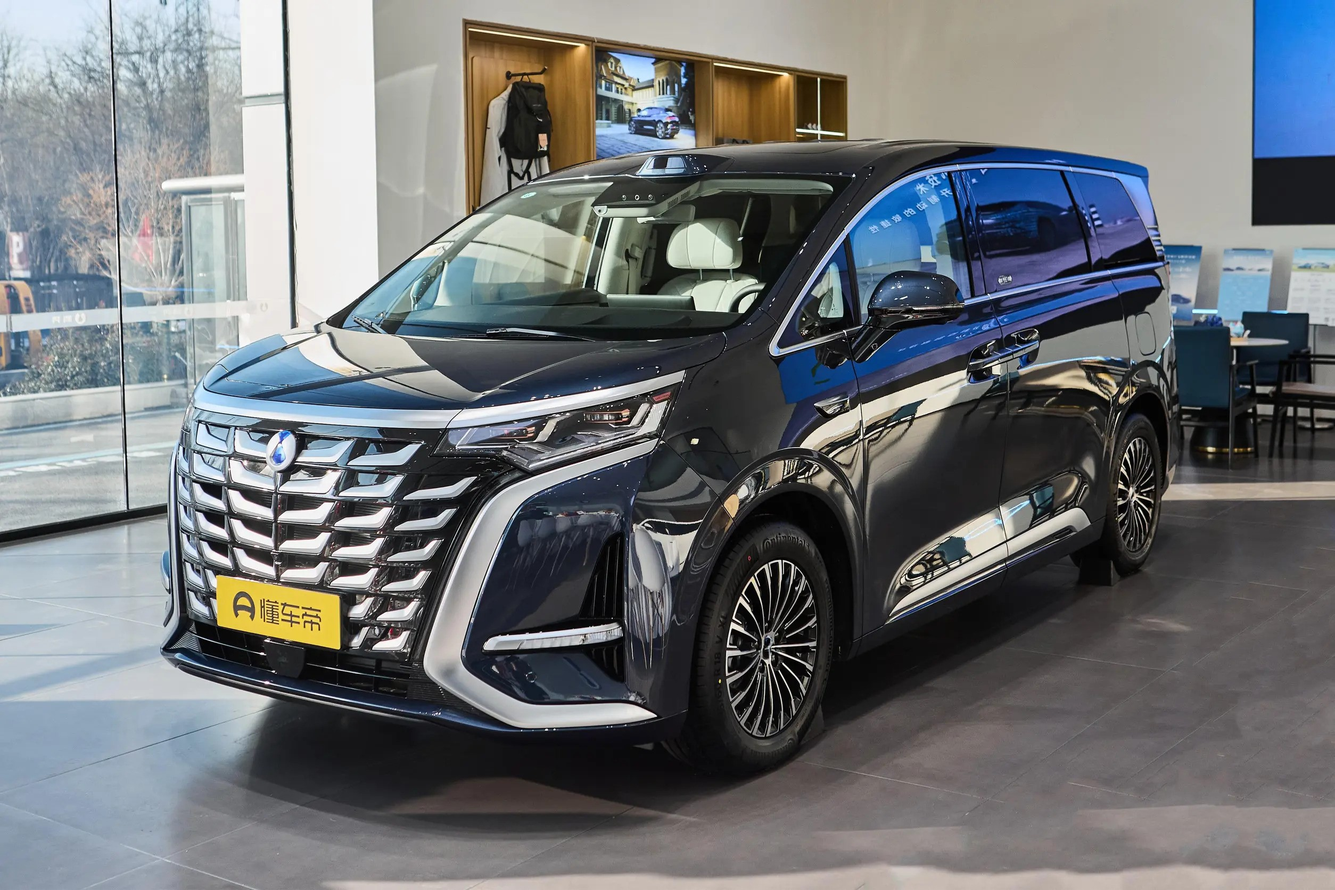DENZA: (266, 431, 296, 471)
